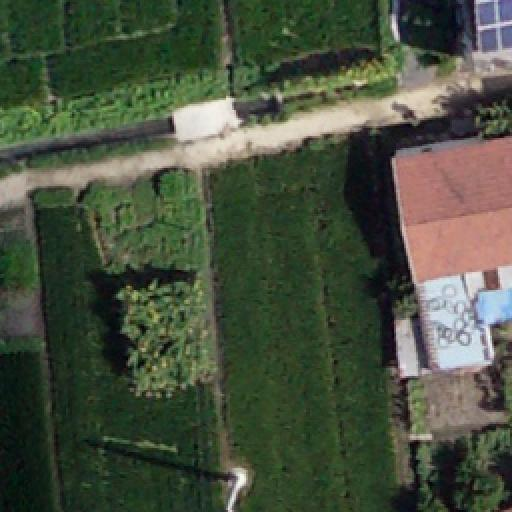solar-panel: (476, 0, 512, 52)
